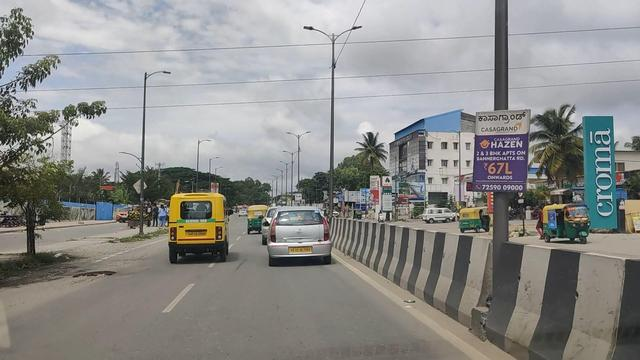LMV: (162, 192, 233, 264), (262, 207, 333, 269)
